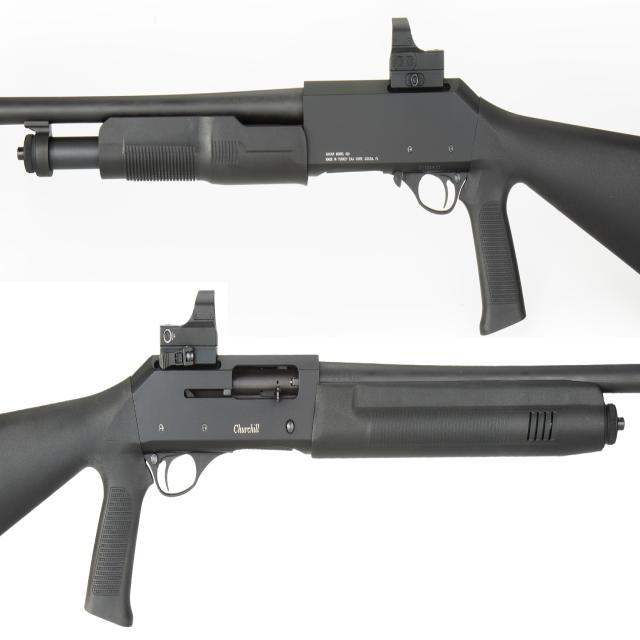ShotGun: (0, 290, 640, 632), (0, 20, 640, 336)
